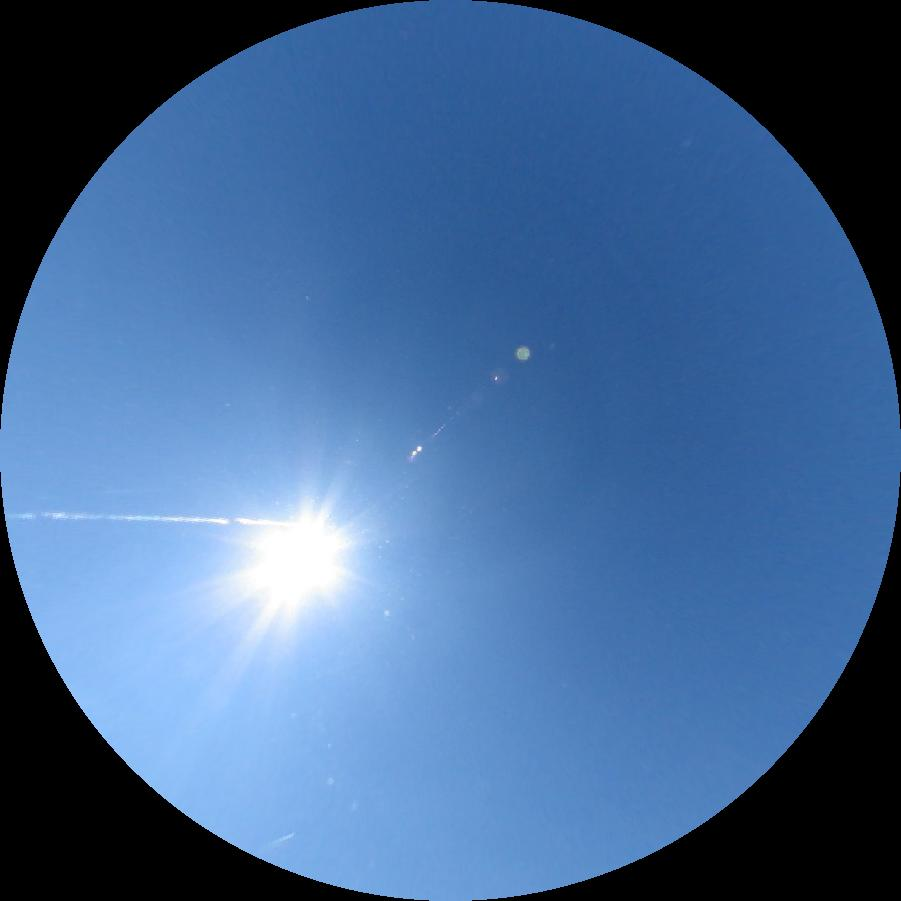contrail young: (261, 831, 297, 851)
parasite: (5, 512, 295, 527)
sun: (249, 518, 342, 604)
